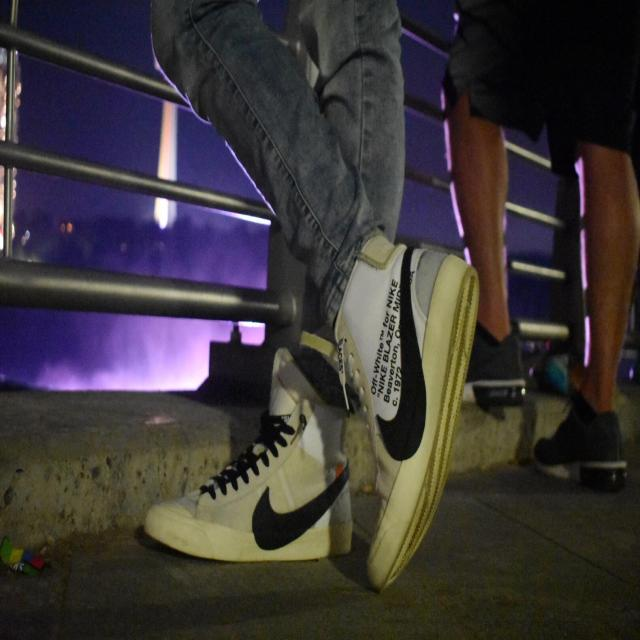shoe: (142, 245, 346, 586), (318, 123, 432, 578)
